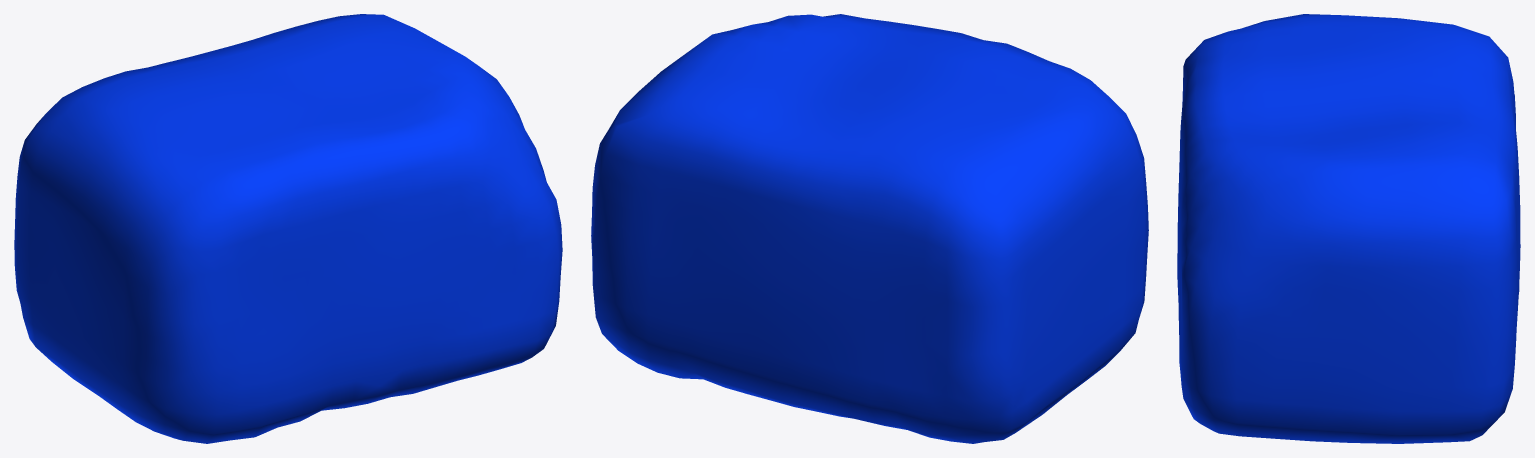
The model's file is SM_RuneStone.fbx.
The picture shows the model from 3 angles, left to right: view 1: azimuth 30°, elevation 25°; view 2: azimuth 150°, elevation 25°; view 3: azimuth 270°, elevation 25°; orthographic projection. The views are drawn at different scales.
Parts seen in each view (by area): view 1: SM_RuneStone_Low; view 2: SM_RuneStone_Low; view 3: SM_RuneStone_Low.
Part boxes in pixels (x1,y1,x2,y2): SM_RuneStone_Low: [14, 14, 562, 443]; SM_RuneStone_Low: [591, 14, 1148, 443]; SM_RuneStone_Low: [1177, 14, 1520, 443].
Bounding box in the file's own units: 104 × 64.72 × 73.94.
